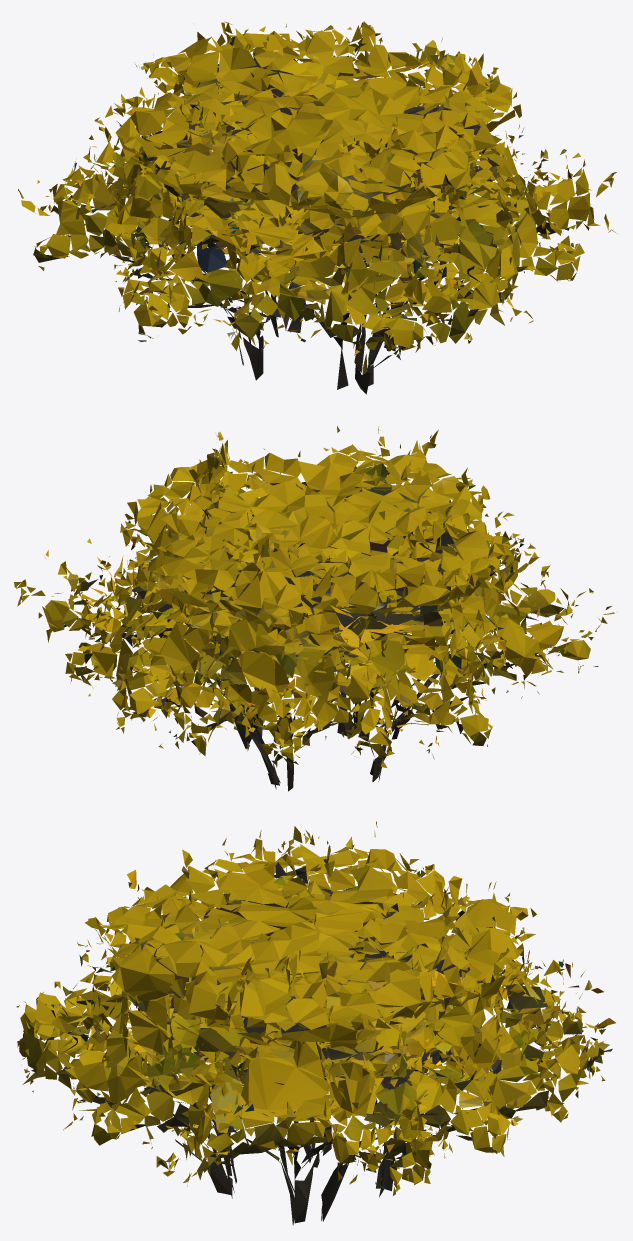
The model's file is espinillo.glb.
3 renders of one model, top to bottom at view 1: azimuth 30°, elevation 25°; view 2: azimuth 150°, elevation 25°; view 3: azimuth 270°, elevation 25°, orthographic. The views are drawn at different scales.
Visible parts, largest first — view 1: tripo_node_9819c106-8e7a-468d-b9a3-76153280fee0; view 2: tripo_node_9819c106-8e7a-468d-b9a3-76153280fee0; view 3: tripo_node_9819c106-8e7a-468d-b9a3-76153280fee0.
Boxes of the visible parts, <box> form: tripo_node_9819c106-8e7a-468d-b9a3-76153280fee0: <box>18,21,616,394</box>; tripo_node_9819c106-8e7a-468d-b9a3-76153280fee0: <box>14,426,614,791</box>; tripo_node_9819c106-8e7a-468d-b9a3-76153280fee0: <box>16,821,615,1225</box>.
Size of the model in its own units: 0.9677 by 0.5572 by 0.9769.
Materials: 1 (1 with a texture image).
